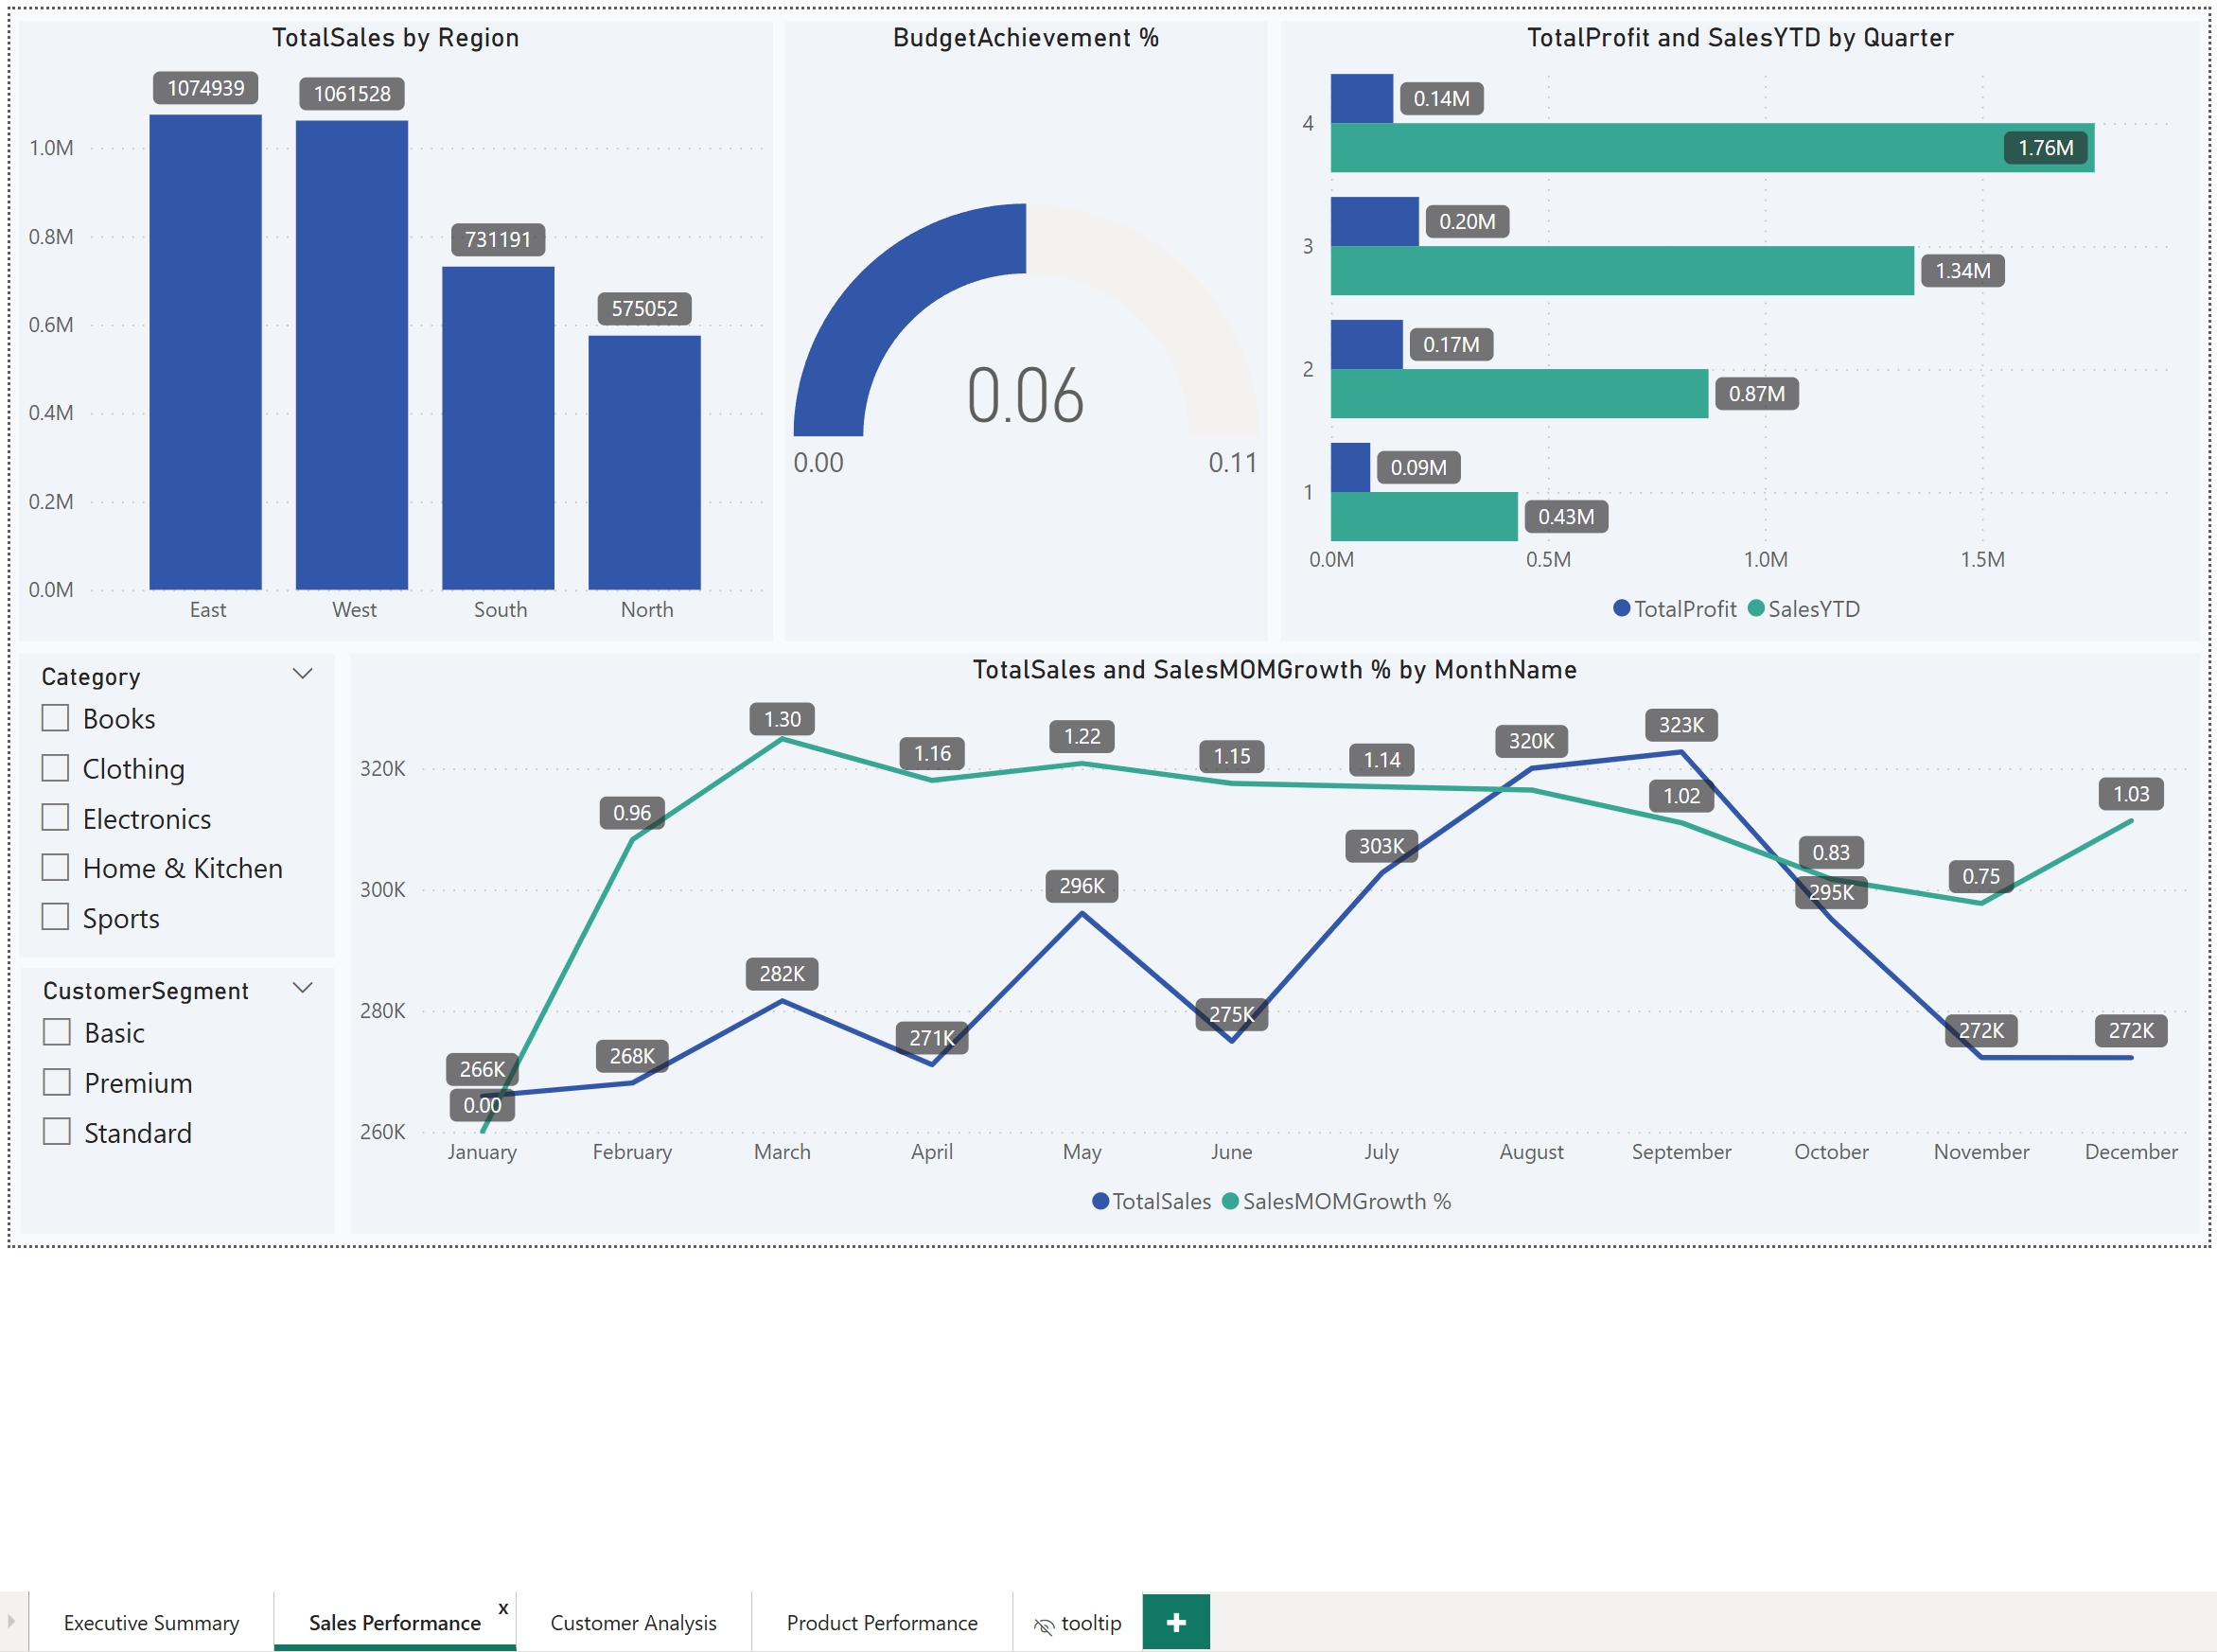

What the dashboard file says about the page in this screenshot:
{"tool":"powerbi","page":{"name":"Sales Performance","canvas":[1280,720],"ordinal":1},"visuals":[{"type":"lineChart","fields":{"Category":["dim_date.MonthName"],"Y":["MeasureTable.TotalSales"],"Y2":["MeasureTable.SalesMOMGrowth %"]},"box":[5,375,1270,338],"z":0},{"type":"clusteredColumnChart","fields":{"Category":["dim_customer.Region"],"Y":["MeasureTable.TotalSales"]},"box":[5,7,439,361],"z":1000},{"type":"gauge","fields":{"Y":["MeasureTable.BudgetAchievement %"]},"box":[451,7,281,361],"z":2000},{"type":"clusteredBarChart","fields":{"Y":["MeasureTable.TotalProfit","MeasureTable.SalesYTD"],"Category":["dim_date.Quarter"]},"box":[740,7,535,361],"z":3000}]}

Visuals, with their boxes on the page's 1280x720 design canvas (x1, y1, x2, y2). These are canvas units, not pixel positions in the 2217x1652 screenshot, which may show the page scaled, cropped or inside an application window:
lineChart - dim_date.MonthName x MeasureTable.TotalSales: left=5, top=375, right=1275, bottom=713
clusteredColumnChart - dim_customer.Region x MeasureTable.TotalSales: left=5, top=7, right=444, bottom=368
gauge - MeasureTable.BudgetAchievement %: left=451, top=7, right=732, bottom=368
clusteredBarChart - MeasureTable.TotalProfit x MeasureTable.SalesYTD: left=740, top=7, right=1275, bottom=368
